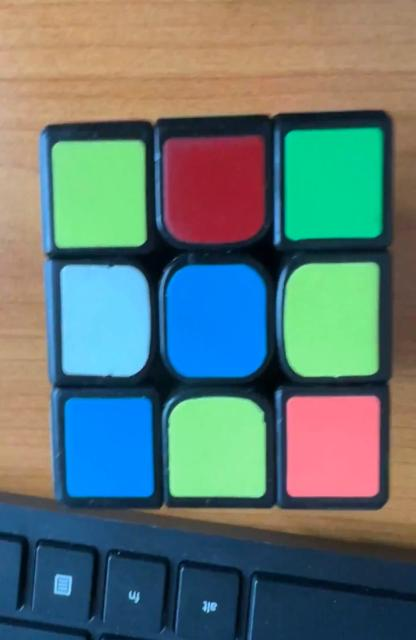Blue: (166, 264, 268, 378), (64, 398, 154, 498)
Green: (284, 126, 385, 241)
Orange: (286, 396, 380, 498)
Red: (162, 135, 265, 244)
White: (60, 265, 151, 378)
Yellow: (283, 262, 380, 378), (51, 139, 147, 249), (168, 396, 266, 498)
